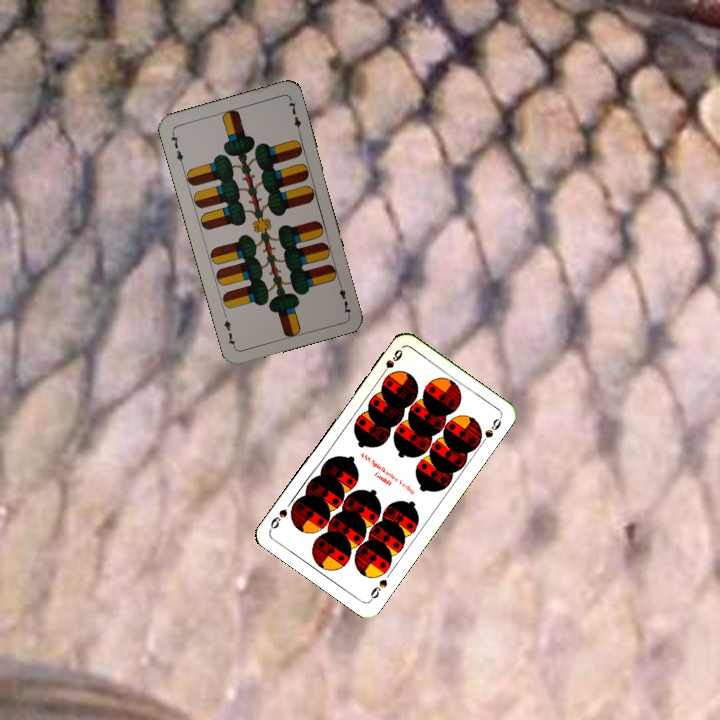E7: (334, 277, 354, 317), (167, 128, 186, 168)
S9: (376, 345, 405, 380), (366, 575, 390, 604)
